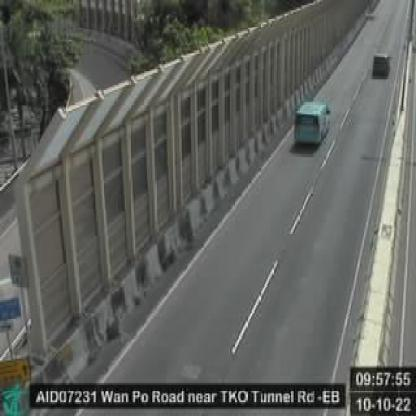Car: (295, 99, 331, 145), (372, 53, 389, 75)
